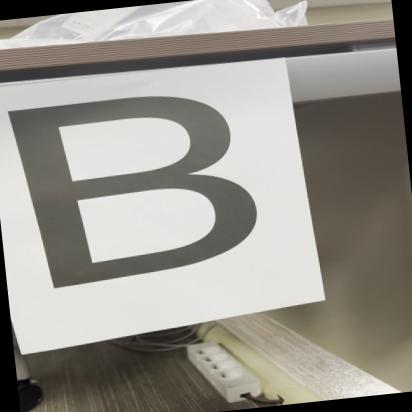seat: (0, 72, 278, 303)
